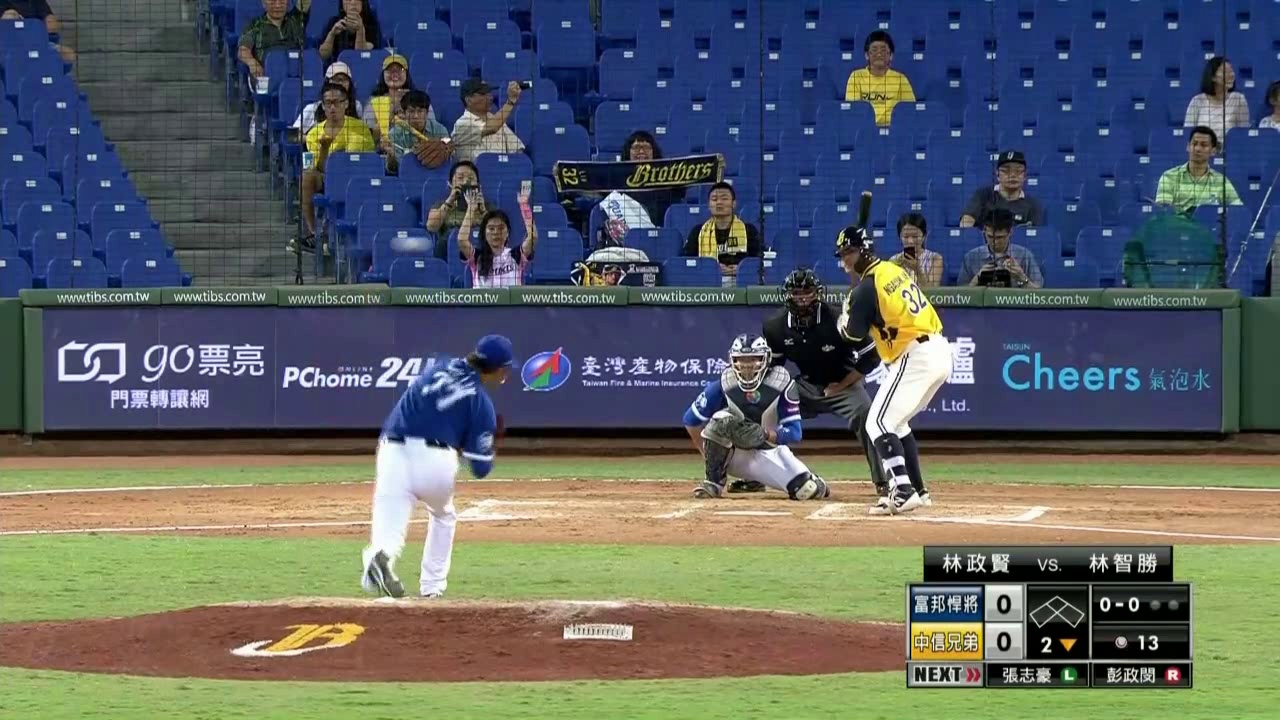ball: (399, 233, 422, 253)
base: (1028, 591, 1088, 628)
bat: (844, 187, 876, 302)
out: (1145, 591, 1186, 618)
score1: (986, 587, 1022, 619)
score2: (987, 626, 1021, 659)
session: (1028, 630, 1088, 657)
strikeball: (1093, 591, 1143, 618)
total: (1093, 629, 1188, 658)
